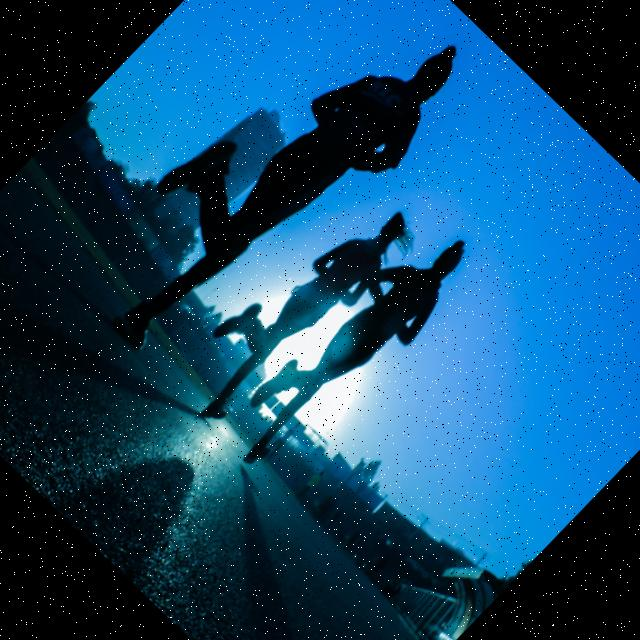Person: (63, 0, 485, 392), (214, 211, 486, 487), (168, 178, 421, 436)
